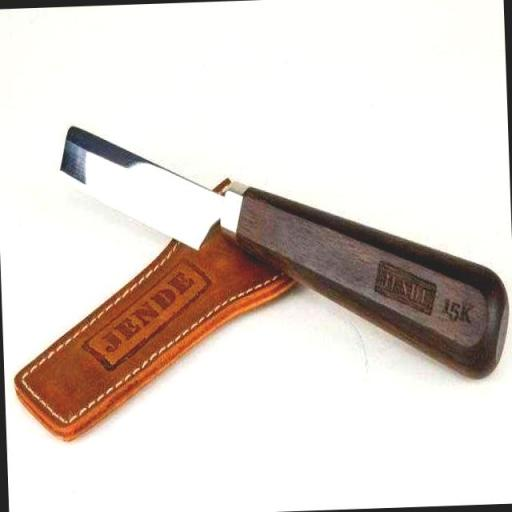knife: (49, 92, 512, 439)
